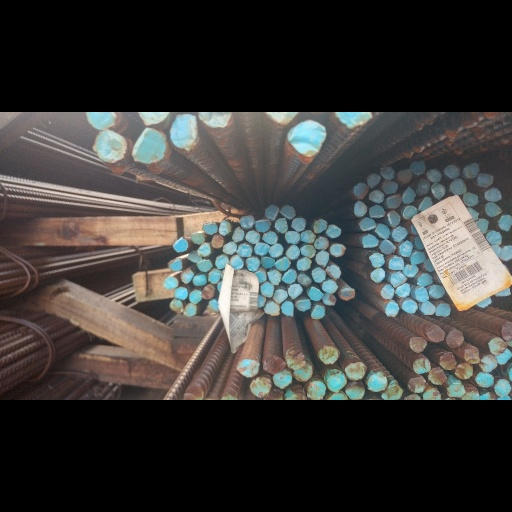dipstick: (285, 120, 326, 157), (131, 126, 166, 164), (92, 131, 128, 163), (169, 114, 198, 148), (336, 112, 373, 127), (197, 112, 233, 127), (86, 112, 117, 129), (317, 345, 340, 365), (263, 355, 286, 375), (326, 371, 346, 392), (345, 361, 366, 380), (267, 112, 299, 124), (368, 372, 388, 391), (250, 377, 270, 396), (237, 358, 258, 376), (138, 113, 171, 124), (425, 324, 445, 342), (293, 362, 311, 382), (285, 351, 305, 369), (272, 371, 292, 389), (446, 328, 463, 349), (439, 351, 457, 370), (428, 366, 447, 384), (306, 382, 326, 399), (381, 385, 403, 400), (488, 337, 506, 355), (479, 354, 498, 371), (454, 362, 473, 379), (449, 179, 467, 196), (493, 378, 510, 396), (475, 372, 494, 388), (412, 358, 431, 374), (408, 376, 427, 392), (484, 201, 502, 217), (409, 336, 427, 352), (447, 382, 466, 397), (391, 226, 408, 242), (369, 252, 386, 268), (390, 271, 407, 287), (463, 347, 480, 363), (287, 283, 303, 300), (396, 168, 412, 184), (380, 239, 396, 255), (477, 172, 494, 187), (485, 187, 502, 202), (463, 163, 480, 178), (462, 191, 479, 206), (381, 179, 398, 194), (353, 183, 368, 200), (362, 234, 379, 249), (315, 250, 330, 267), (280, 268, 297, 283), (263, 301, 280, 316), (253, 241, 270, 256), (443, 164, 461, 178), (486, 230, 502, 245), (375, 223, 390, 239), (370, 267, 385, 283), (429, 284, 445, 299), (380, 284, 395, 300), (494, 348, 509, 364), (325, 223, 341, 238), (311, 267, 327, 282), (279, 205, 295, 220), (266, 270, 281, 286), (262, 230, 278, 245), (399, 240, 413, 257), (430, 183, 445, 198), (389, 255, 404, 270), (326, 265, 341, 280), (291, 217, 306, 232), (285, 245, 300, 260), (245, 256, 260, 271), (173, 237, 188, 252), (409, 160, 425, 174), (417, 196, 433, 210), (368, 189, 384, 203), (360, 217, 376, 231), (313, 236, 329, 250), (330, 243, 346, 257), (296, 257, 312, 271), (265, 204, 279, 220), (274, 256, 290, 270), (260, 282, 274, 298), (254, 218, 270, 232), (180, 268, 194, 284), (475, 217, 488, 234), (402, 187, 415, 204), (384, 194, 401, 207), (368, 204, 385, 217), (461, 387, 478, 400), (338, 287, 355, 300), (281, 300, 294, 317), (232, 225, 245, 242), (498, 213, 510, 231), (380, 165, 395, 179), (415, 286, 429, 301), (395, 283, 410, 297), (385, 301, 399, 316), (402, 299, 417, 313), (436, 302, 451, 316), (312, 219, 327, 233), (322, 279, 337, 293), (321, 292, 336, 306), (301, 230, 316, 244), (245, 230, 260, 244), (222, 241, 237, 255), (230, 255, 244, 270), (188, 289, 202, 304), (201, 284, 215, 299), (500, 322, 511, 341), (415, 179, 428, 195), (387, 210, 400, 226), (417, 273, 433, 286), (308, 286, 321, 302), (284, 231, 300, 244), (268, 243, 284, 256), (218, 220, 231, 236), (202, 221, 218, 234), (167, 258, 183, 271), (423, 388, 440, 400), (353, 201, 367, 215), (421, 301, 435, 315), (297, 272, 311, 286), (296, 298, 310, 312), (197, 242, 211, 256), (164, 275, 178, 289), (173, 286, 187, 300), (183, 302, 197, 316), (169, 299, 183, 313), (426, 168, 441, 181), (367, 173, 380, 188), (403, 264, 418, 277), (275, 218, 288, 233), (211, 233, 224, 248), (187, 250, 202, 263), (208, 268, 221, 283), (191, 273, 206, 286), (494, 285, 510, 297), (299, 244, 315, 256), (402, 206, 416, 219), (477, 294, 491, 307), (311, 305, 324, 319), (273, 289, 287, 302), (260, 256, 274, 269), (240, 215, 254, 228), (215, 255, 228, 269), (410, 251, 425, 263), (197, 259, 212, 271), (254, 270, 267, 283), (413, 236, 425, 250), (238, 244, 252, 256), (191, 232, 205, 244), (500, 245, 510, 261), (468, 206, 480, 219), (423, 258, 434, 272), (208, 300, 219, 314), (491, 243, 501, 256), (258, 294, 265, 308)
